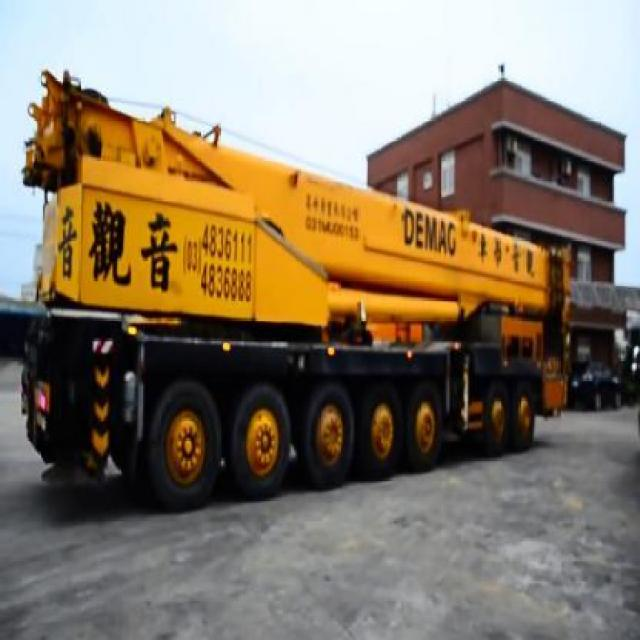Mobile Crane: (16, 73, 569, 485)
